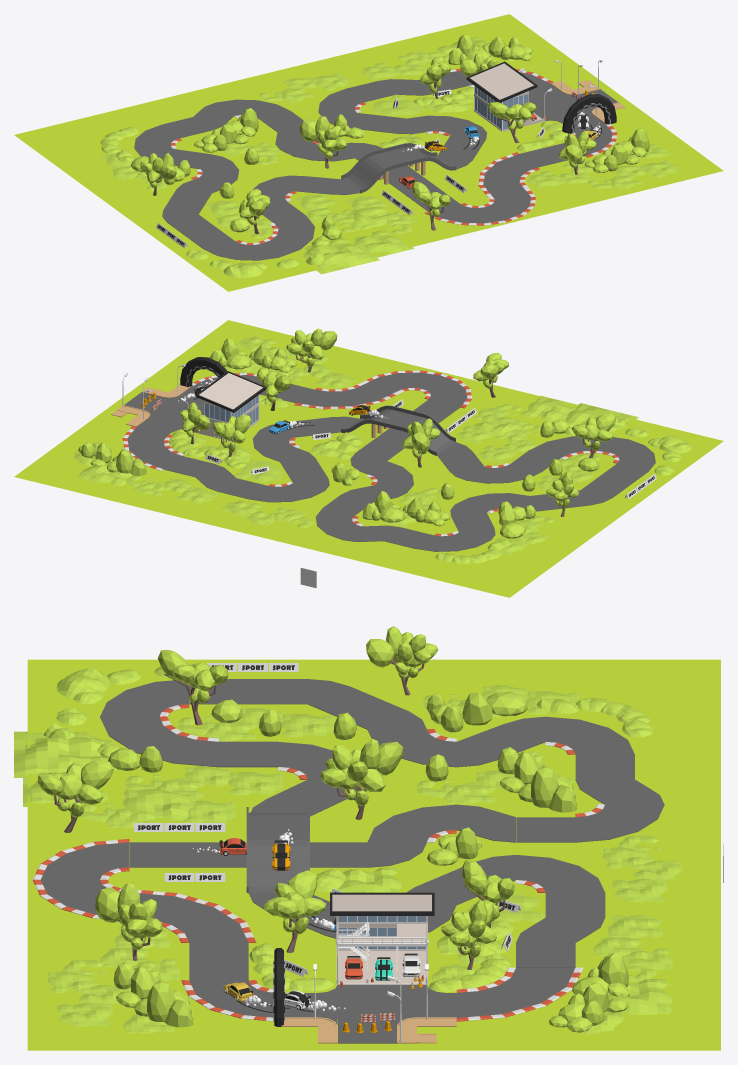
The model's file is track.glb.
3 renders of one model, top to bottom at view 1: azimuth 30°, elevation 25°; view 2: azimuth 150°, elevation 25°; view 3: azimuth 270°, elevation 25°, orthographic. The views are drawn at different scales.
Parts seen in each view (by area): view 1: green_2, green, asphalt, black, white, wall, red, concrite, glass, metal, brown; view 2: green_2, asphalt, green, white, black, wall, red, concrite, glass, metal, brown; view 3: green_2, green, asphalt, white, wall, red, black, metal, concrite, brown, glass, fog_72.
Boxes of the visible parts, x1,y1,x2,y2 form: green_2: [14, 14, 723, 291]; green: [100, 34, 678, 277]; asphalt: [134, 70, 617, 260]; black: [157, 61, 616, 245]; white: [156, 69, 616, 248]; wall: [470, 63, 544, 131]; red: [170, 68, 617, 244]; concrite: [378, 80, 625, 184]; glass: [475, 86, 528, 129]; metal: [399, 60, 603, 187]; brown: [153, 71, 581, 233]; green_2: [14, 320, 723, 597]; asphalt: [124, 372, 655, 551]; green: [73, 328, 691, 563]; white: [123, 370, 656, 536]; black: [180, 357, 654, 497]; wall: [196, 373, 262, 440]; red: [122, 370, 618, 536]; concrite: [111, 384, 409, 437]; glass: [204, 395, 257, 437]; metal: [122, 364, 364, 441]; brown: [151, 355, 597, 516]; green_2: [27, 659, 720, 1050]; green: [14, 626, 682, 1034]; asphalt: [40, 679, 664, 1043]; white: [33, 663, 604, 1021]; wall: [332, 894, 431, 984]; red: [32, 704, 602, 1021]; black: [138, 665, 515, 1026]; metal: [224, 852, 429, 1042]; concrite: [281, 1017, 456, 1043]; brown: [54, 657, 505, 1023]; glass: [338, 916, 426, 949]; fog_72: [192, 829, 345, 1011].
Bounding box in the file's own units: 93.45 × 15.37 × 71.68.
